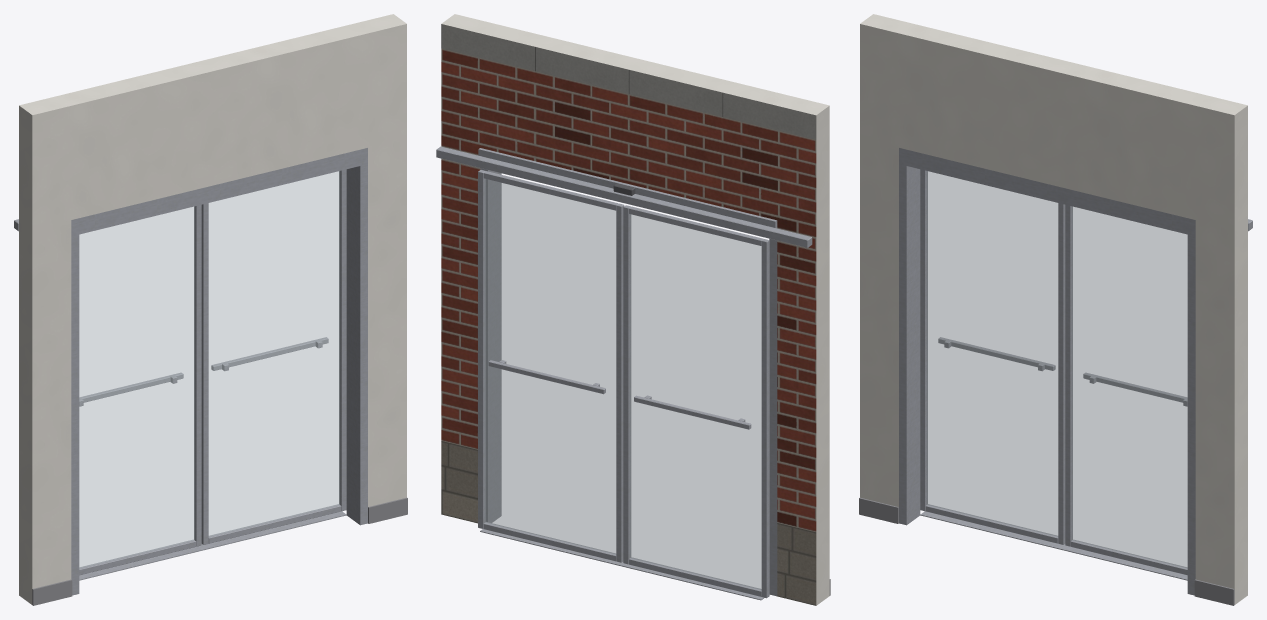
Rendered from shopfront_entrance_240.glb.
The picture shows the model from 3 angles, left to right: view 1: azimuth 30°, elevation 25°; view 2: azimuth 150°, elevation 25°; view 3: azimuth 330°, elevation 25°; orthographic projection.
Parts seen in each view (by area): view 1: shopfront_entrance_240-col, slide_door_right, slide_door_left; view 2: shopfront_entrance_240-col, slide_door_left, slide_door_right; view 3: shopfront_entrance_240-col, slide_door_left, slide_door_right.
Part boxes in pixels (x1,y1,x2,y2): shopfront_entrance_240-col: [14, 14, 407, 605]; slide_door_right: [201, 169, 346, 544]; slide_door_left: [79, 204, 201, 575]; shopfront_entrance_240-col: [436, 14, 830, 605]; slide_door_left: [623, 205, 769, 598]; slide_door_right: [478, 170, 624, 562]; shopfront_entrance_240-col: [859, 14, 1252, 605]; slide_door_left: [920, 169, 1065, 544]; slide_door_right: [1065, 204, 1187, 575].
Size of the model in its own units: 2.4 by 3 by 0.2695.
Materials: 8 (5 with a texture image).
